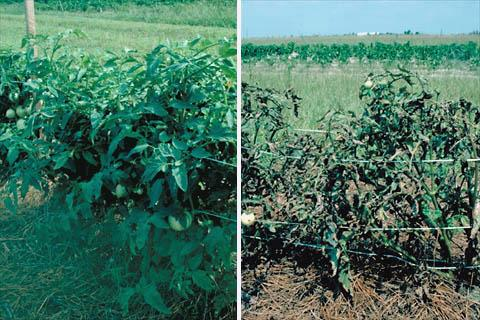Tomato leaf bacterial spot: (170, 161, 193, 197), (132, 219, 156, 253), (106, 123, 127, 160), (144, 96, 167, 122), (83, 177, 103, 204)
